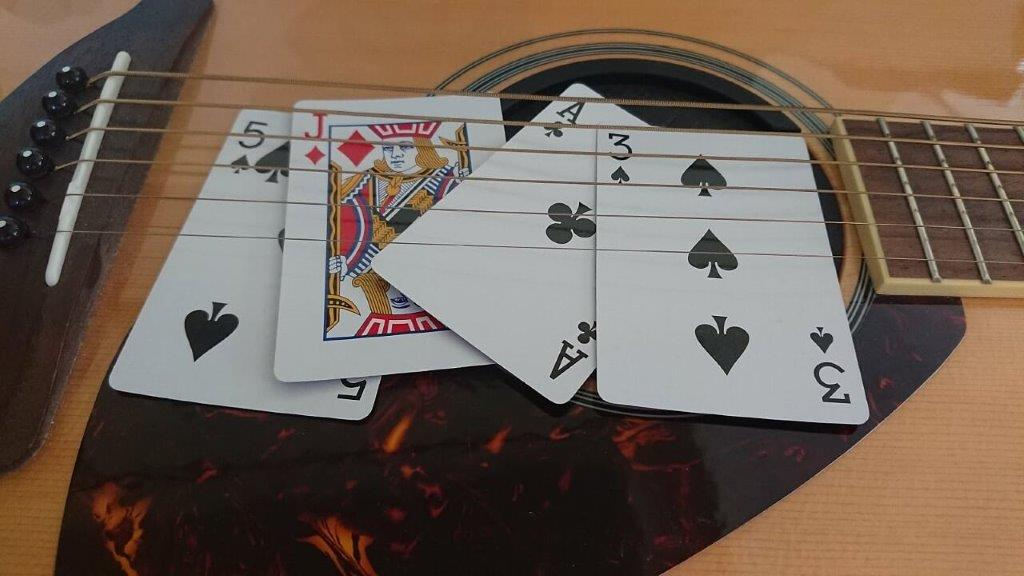3S: (603, 130, 635, 186)
5S: (224, 118, 271, 178)
AC: (539, 95, 588, 141)
JD: (298, 108, 331, 167)
